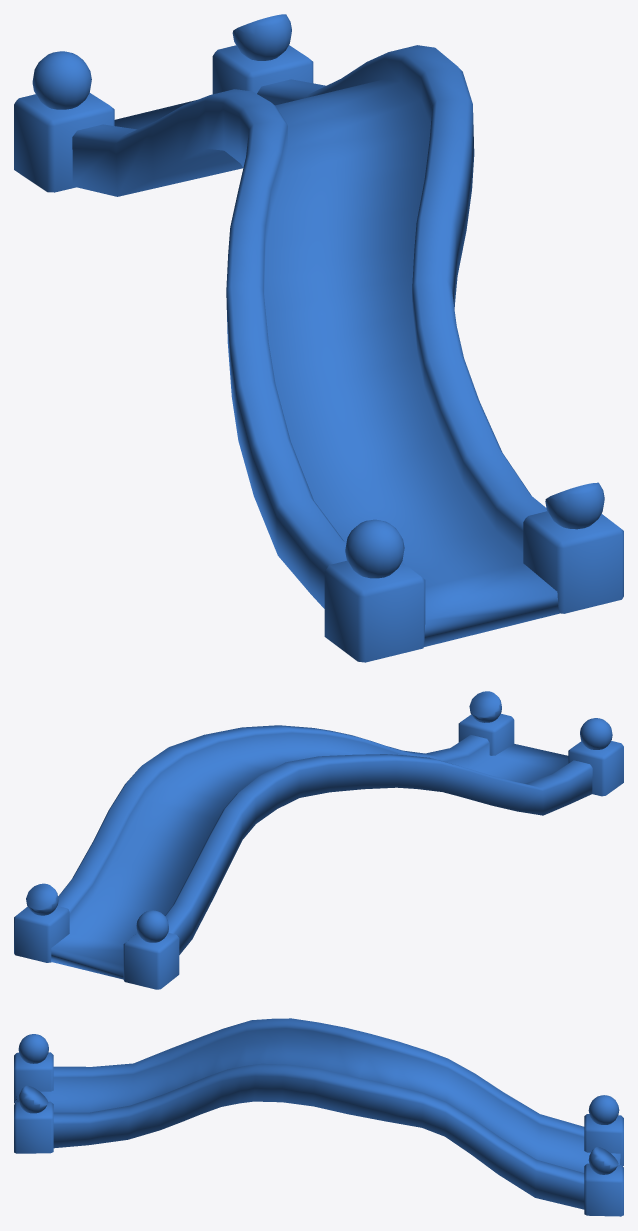
File: SM_bridge_top_01.fbx
3 renders of one model, top to bottom at view 1: azimuth 30°, elevation 25°; view 2: azimuth 150°, elevation 25°; view 3: azimuth 270°, elevation 25°, orthographic. The views are drawn at different scales.
Parts seen in each view (by area): view 1: bridge_top_01; view 2: bridge_top_01; view 3: bridge_top_01.
Boxes of the visible parts, x1,y1,x2,y2 form: bridge_top_01: [14, 14, 623, 662]; bridge_top_01: [14, 691, 623, 989]; bridge_top_01: [14, 1018, 623, 1216].
Bounding box in the file's own units: 3003 × 1258 × 6045.
